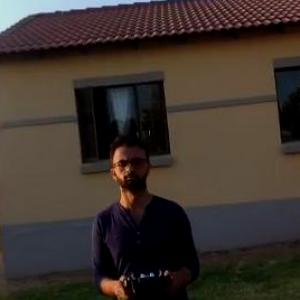follow: (87, 129, 207, 299)
